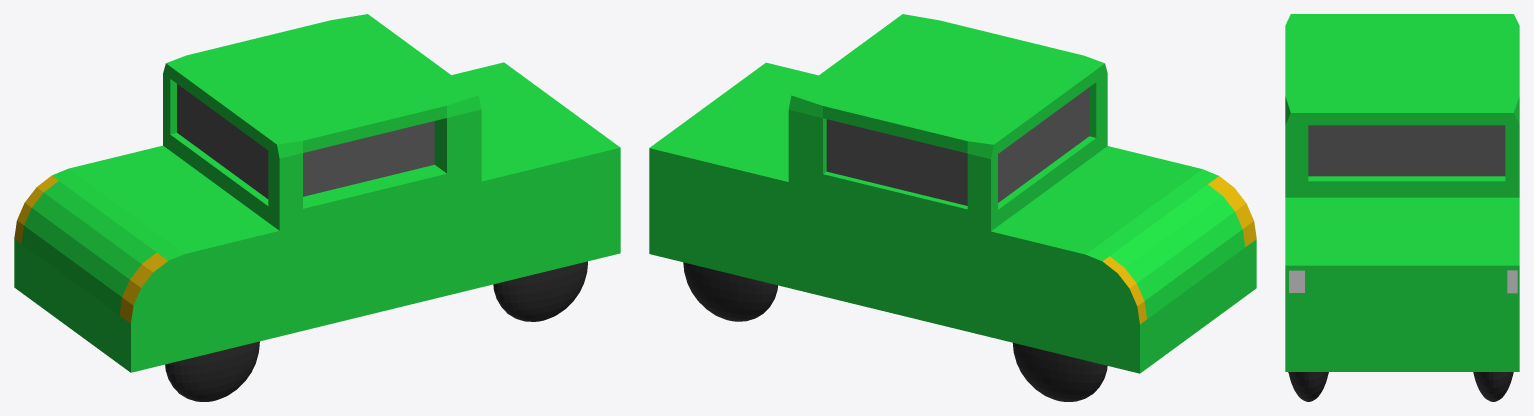
Rendered from Car_GGJ1.fbx.
3 views of the same model, side by side, from view 1: azimuth 30°, elevation 25°; view 2: azimuth 150°, elevation 25°; view 3: azimuth 270°, elevation 25° (orthographic).
Parts seen in each view (by area): view 1: Cube; view 2: Cube; view 3: Cube.
Boxes of the visible parts, x1=… form: Cube: x1=14, y1=14, x2=620, y2=401; Cube: x1=649, y1=14, x2=1256, y2=401; Cube: x1=1285, y1=14, x2=1519, y2=401.
Size of the model in its own units: 485 by 235 by 200.
